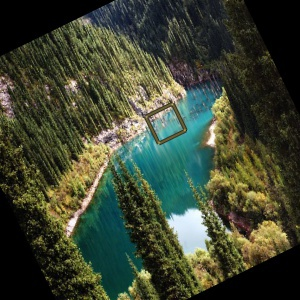square: (143, 101, 189, 145)
